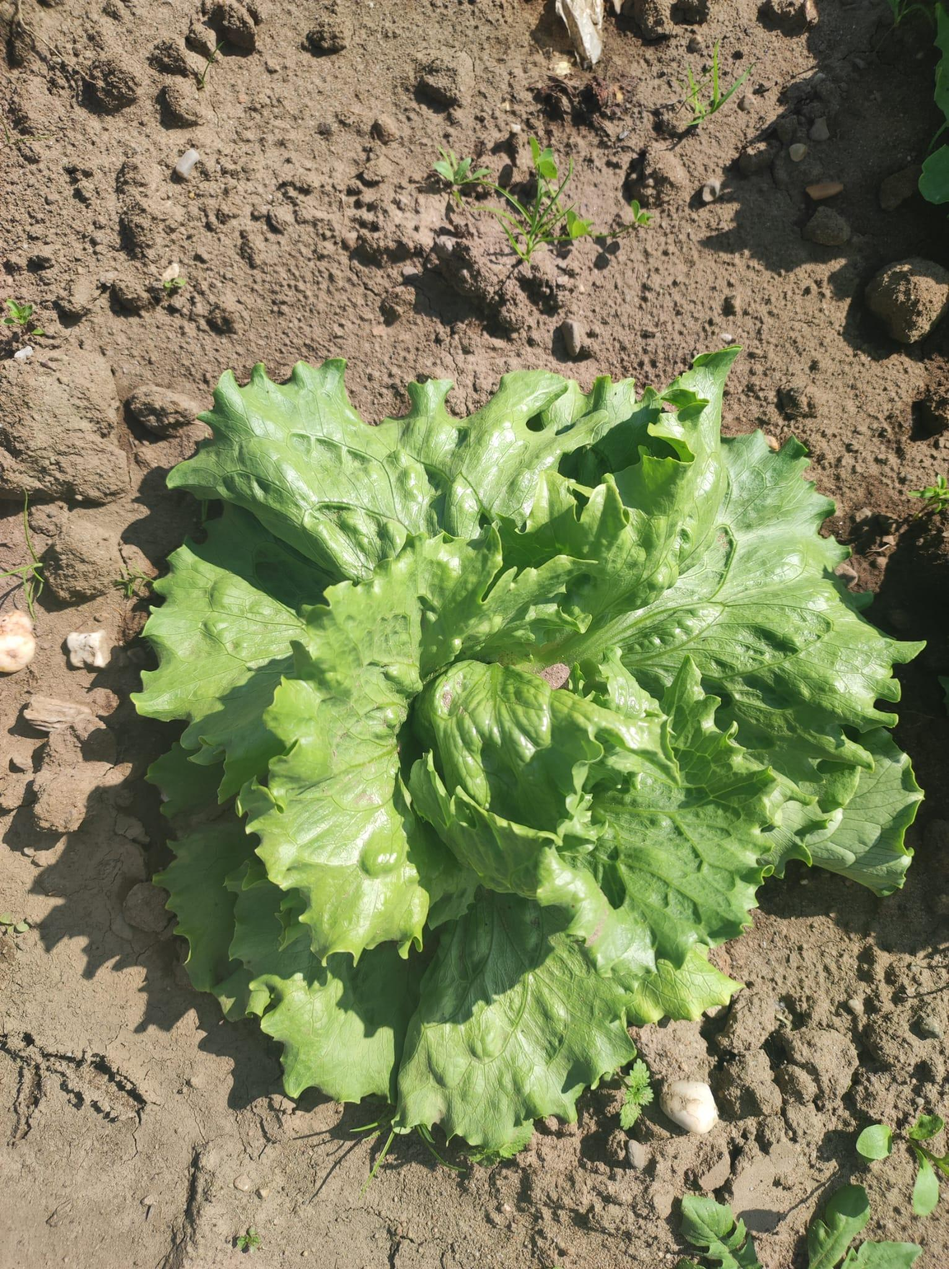healthy: (133, 348, 922, 1156)
